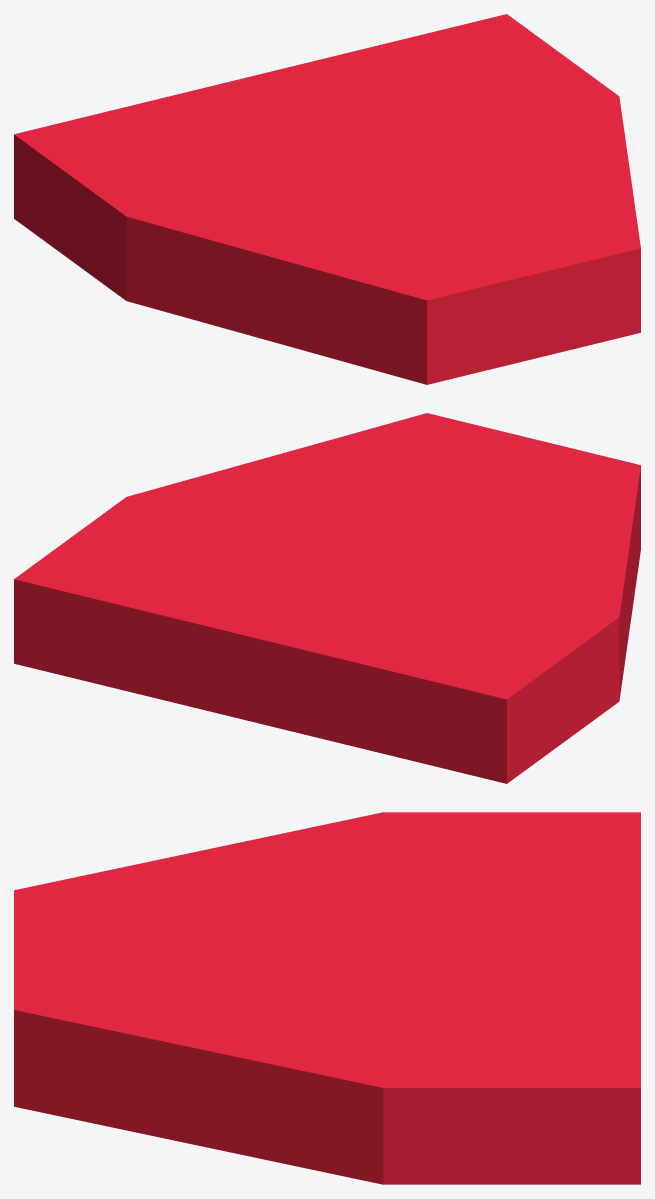
Rendered from Mr Stabs Image Synthesis.dae.
The picture shows the model from 3 angles, top to bottom: view 1: azimuth 30°, elevation 25°; view 2: azimuth 150°, elevation 25°; view 3: azimuth 270°, elevation 25°; orthographic projection. The views are drawn at different scales.
Visible parts, largest first — view 1: ID2; view 2: ID2; view 3: ID2.
Boxes of the visible parts, <box> form: ID2: <box>14,14,640,384</box>; ID2: <box>14,413,640,783</box>; ID2: <box>14,812,640,1184</box>.
Size of the model in its own units: 0.1527 by 0.1468 by 0.025.
